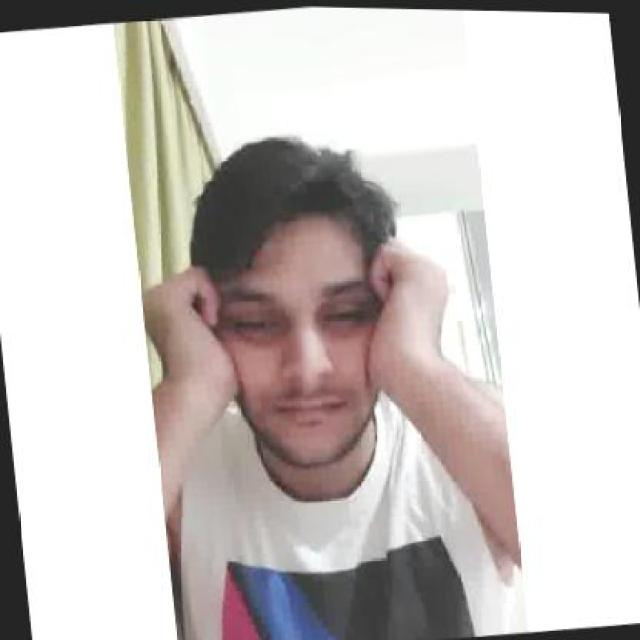inattentif: (182, 128, 402, 480)
